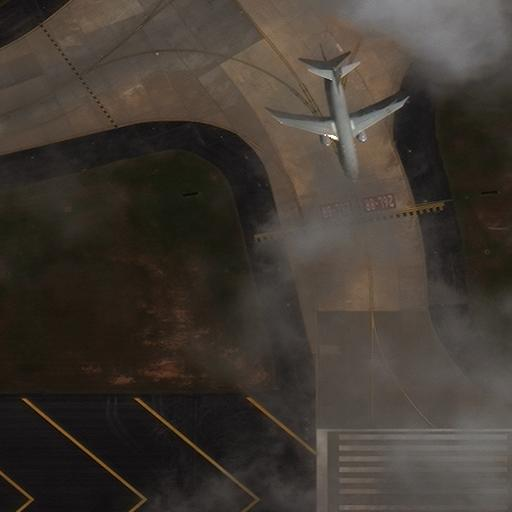Large Civil Transport: (281, 64, 411, 185)
